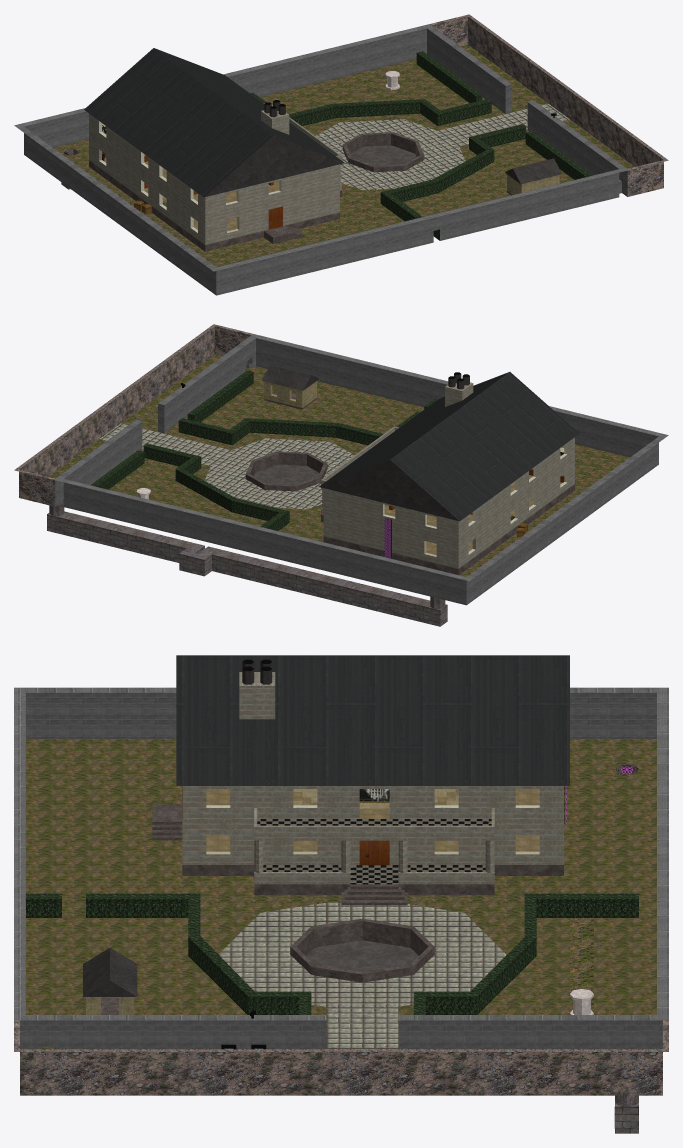
The model's file is cs_mansion.FBX.
3 views of the same model, one above another, from view 1: azimuth 30°, elevation 25°; view 2: azimuth 150°, elevation 25°; view 3: azimuth 270°, elevation 25° (orthographic). The views are drawn at different scales.
Parts seen in each view (by area): view 1: BSP_Object_model_0; view 2: BSP_Object_model_0; view 3: BSP_Object_model_0, BSP_Object_model_31.
Part boxes in pixels (box(x1,y1,x2,y2)): BSP_Object_model_0: box(14, 14, 668, 295); BSP_Object_model_0: box(14, 324, 668, 626); BSP_Object_model_0: box(14, 655, 668, 1133); BSP_Object_model_31: box(359, 840, 389, 865).
Bounding box in the file's own units: 2296 × 680 × 1744.
59 materials, 59 textured.
